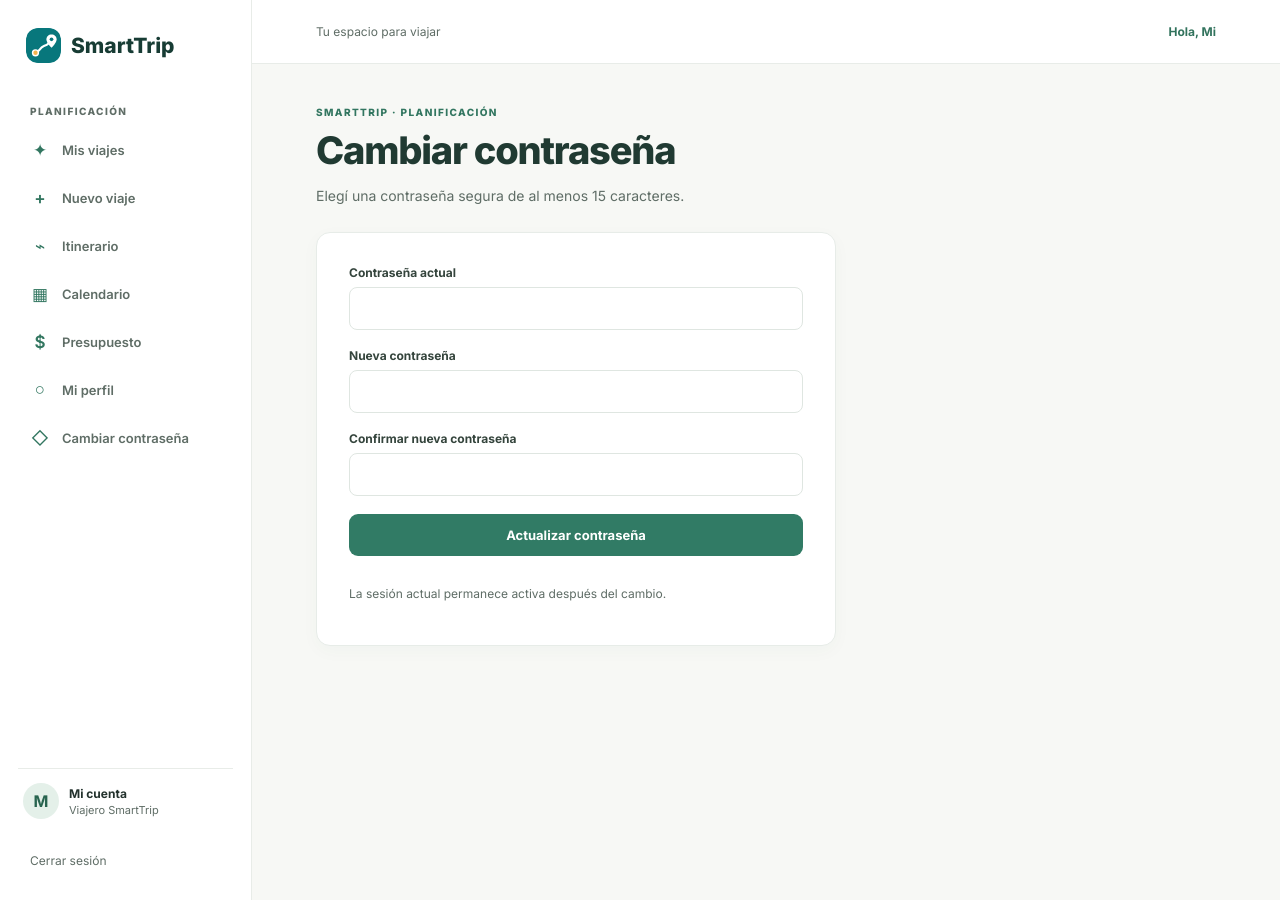
Test: ChangePassword › usa un mensaje propio si el backend no envía uno
Step 1. Type "actual" into the password field labelled "Contraseña actual" → (576, 308), box [349,287,803,330]
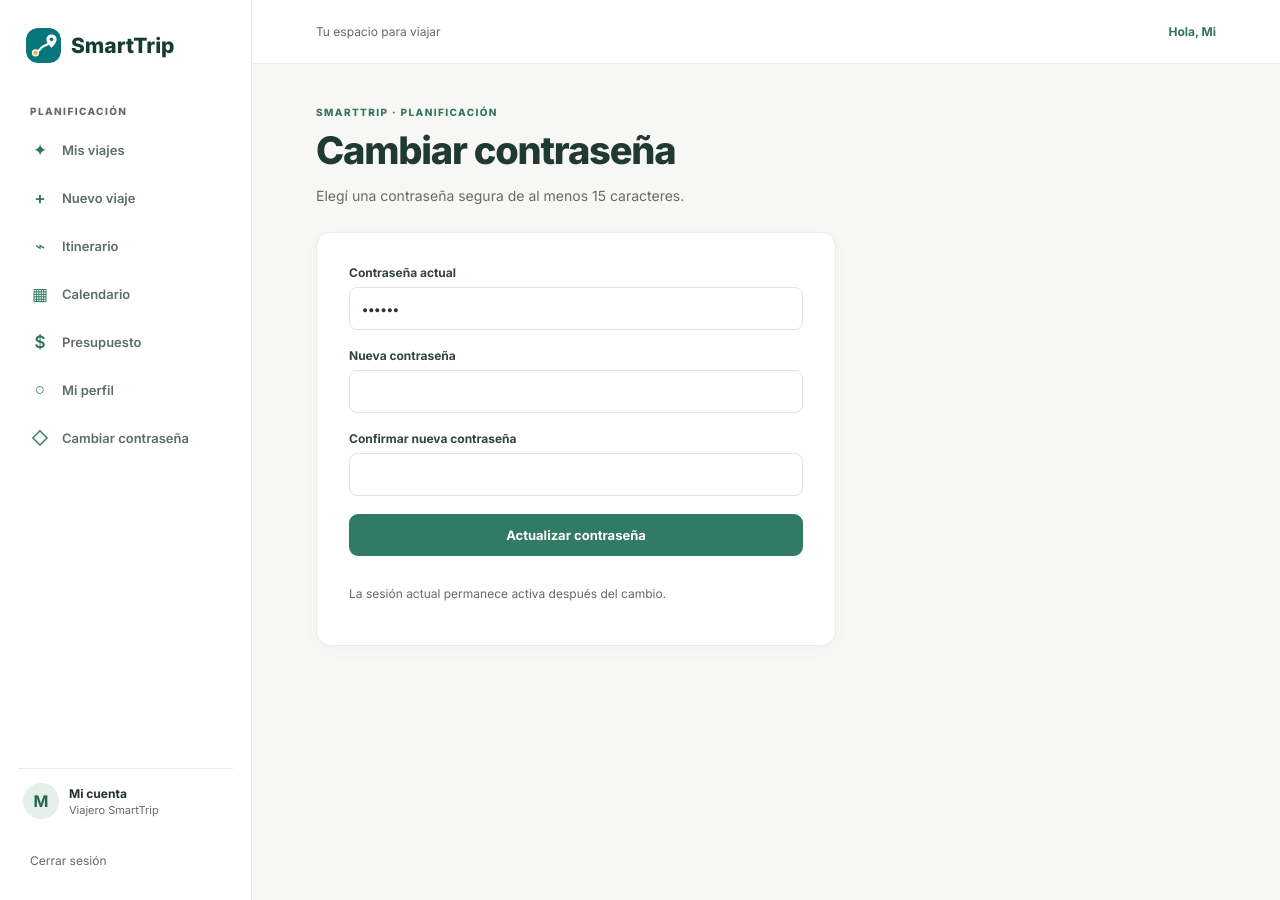
Step 2. Type "una clave nueva y larga" into the password field labelled "Nueva contraseña" → (576, 392), box [349,370,803,413]
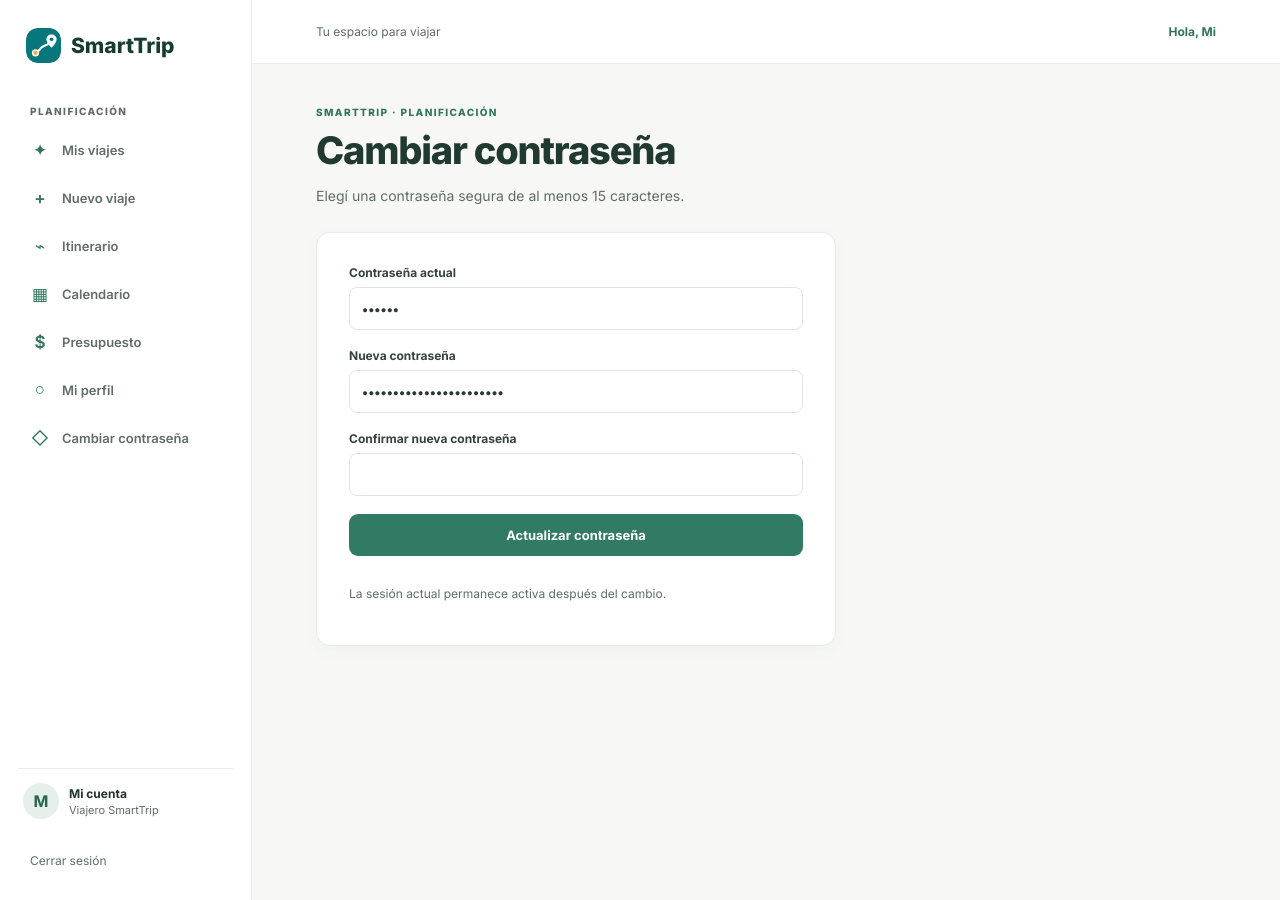
Step 3. Type "una clave nueva y larga" into the password field labelled "Confirmar nueva contraseña" → (576, 474), box [349,453,803,496]
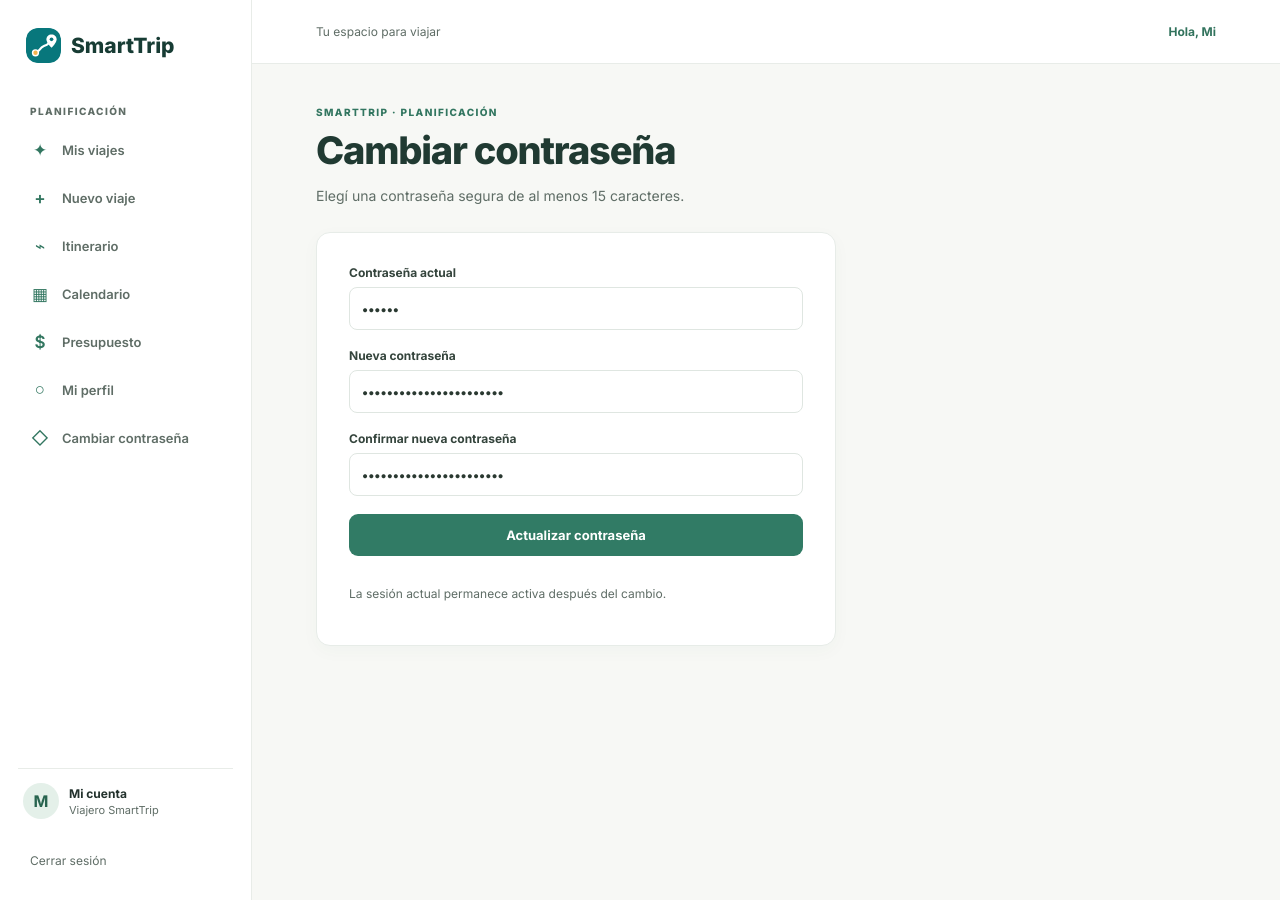
Step 4. Click the button "Actualizar contraseña" → (576, 535), box [349,514,803,556]
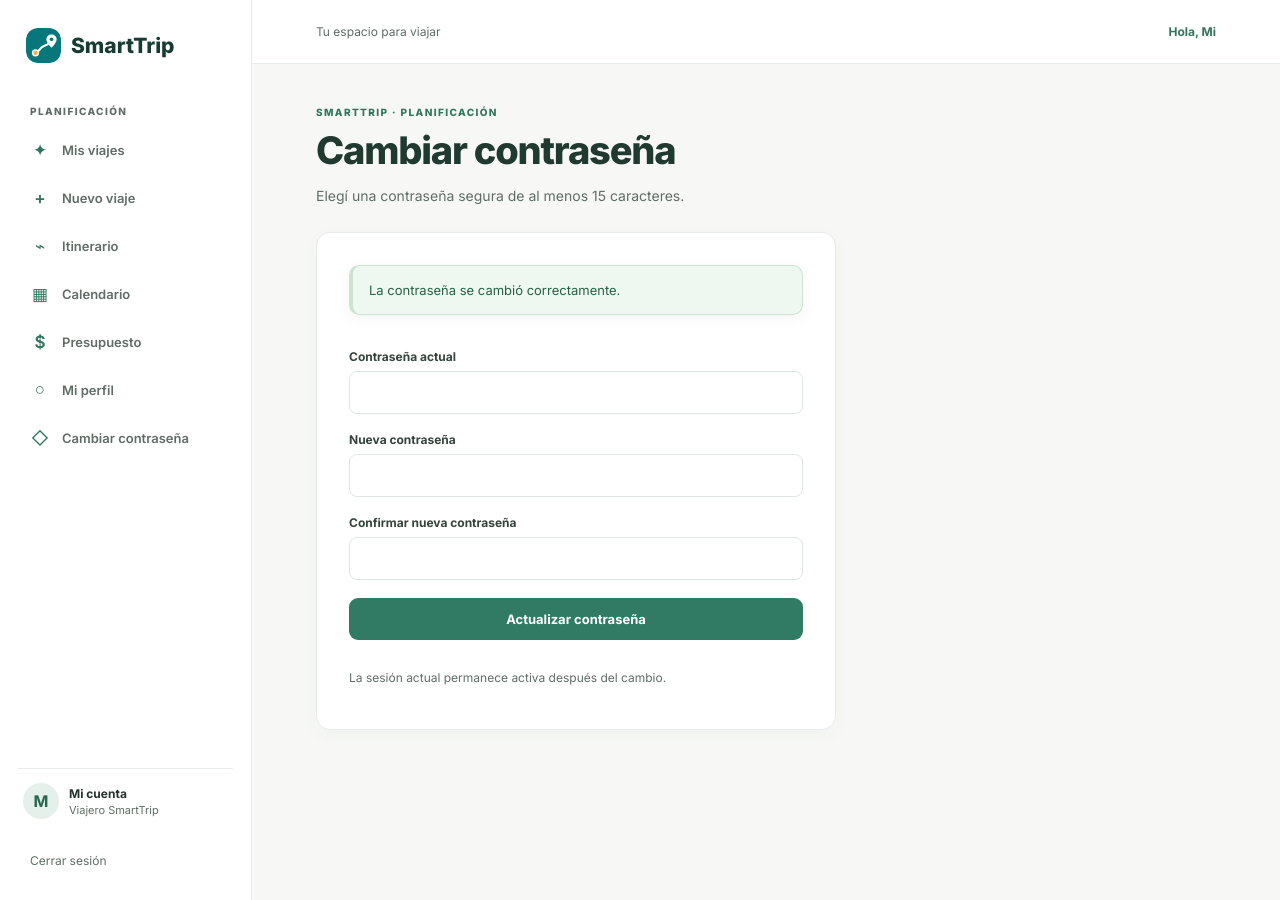
Check: the text "La contraseña se cambió correctamente." is shown, box [349,265,803,315]
